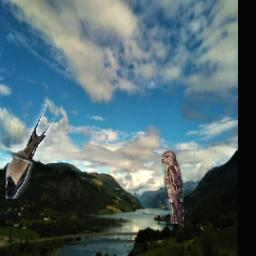Sparrow: (161, 150, 183, 224)
Swallow: (5, 104, 57, 199)
